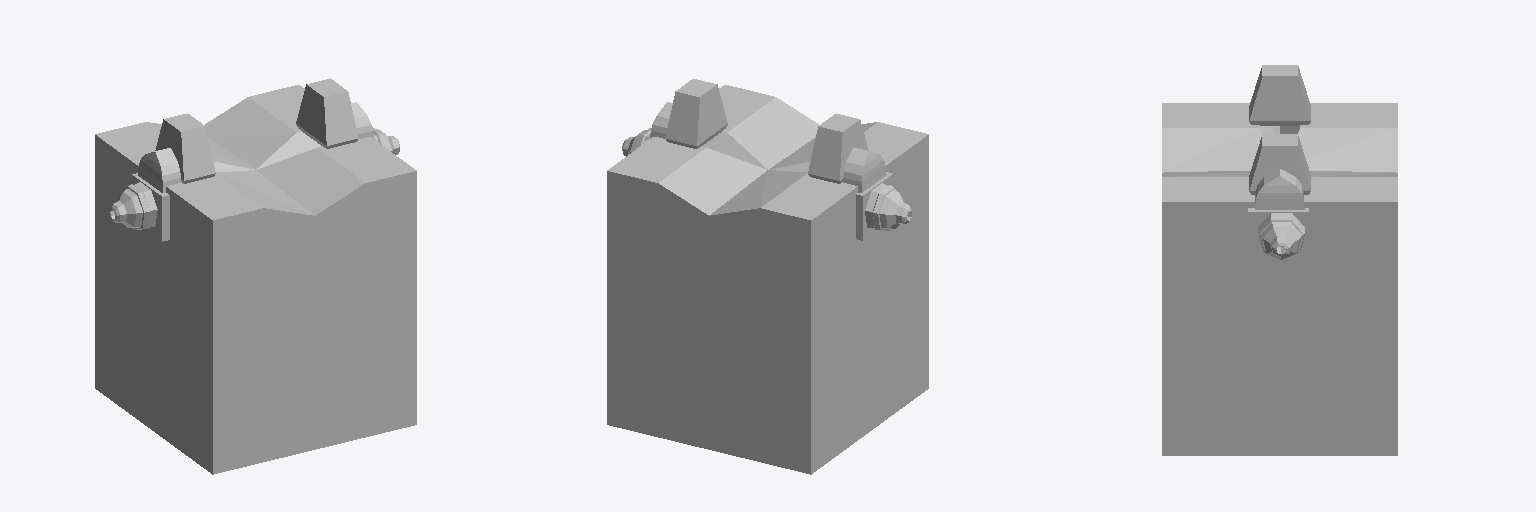
File: TD_Waterwalkway_2fountain.obj
3 renders of one model, left to right at view 1: azimuth 30°, elevation 25°; view 2: azimuth 150°, elevation 25°; view 3: azimuth 270°, elevation 25°, orthographic.
Visible parts, largest first — view 1: fountain4; view 2: fountain4; view 3: fountain4.
Boxes of the visible parts, x1=… form: fountain4: x1=95, y1=78, x2=416, y2=474; fountain4: x1=607, y1=79, x2=928, y2=474; fountain4: x1=1162, y1=65, x2=1397, y2=455.
Bounding box in the file's own units: 2.79 × 2.82 × 2.